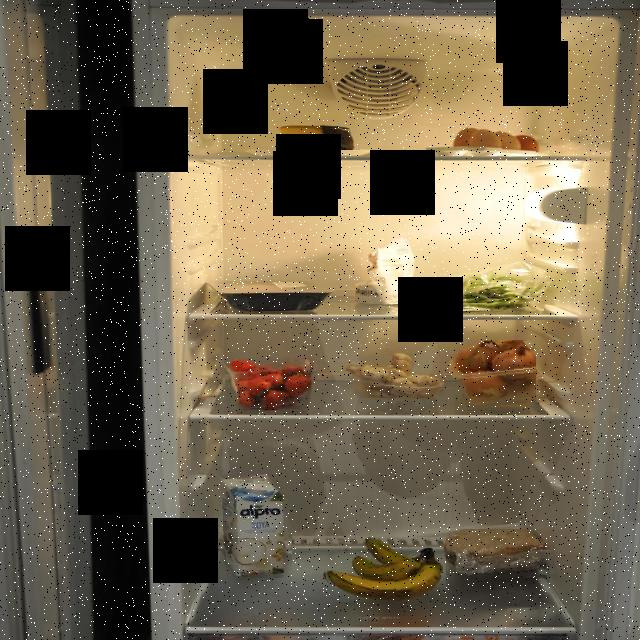banana: (322, 534, 446, 602)
bread: (444, 529, 556, 584)
cheese: (274, 126, 360, 150)
eggs: (450, 120, 550, 156)
flour: (355, 238, 427, 304)
green_beans: (422, 270, 548, 312)
milk: (215, 474, 292, 578)
mushrooms: (346, 355, 446, 398)
onion: (452, 340, 536, 410)
strawberries: (223, 358, 317, 411)
